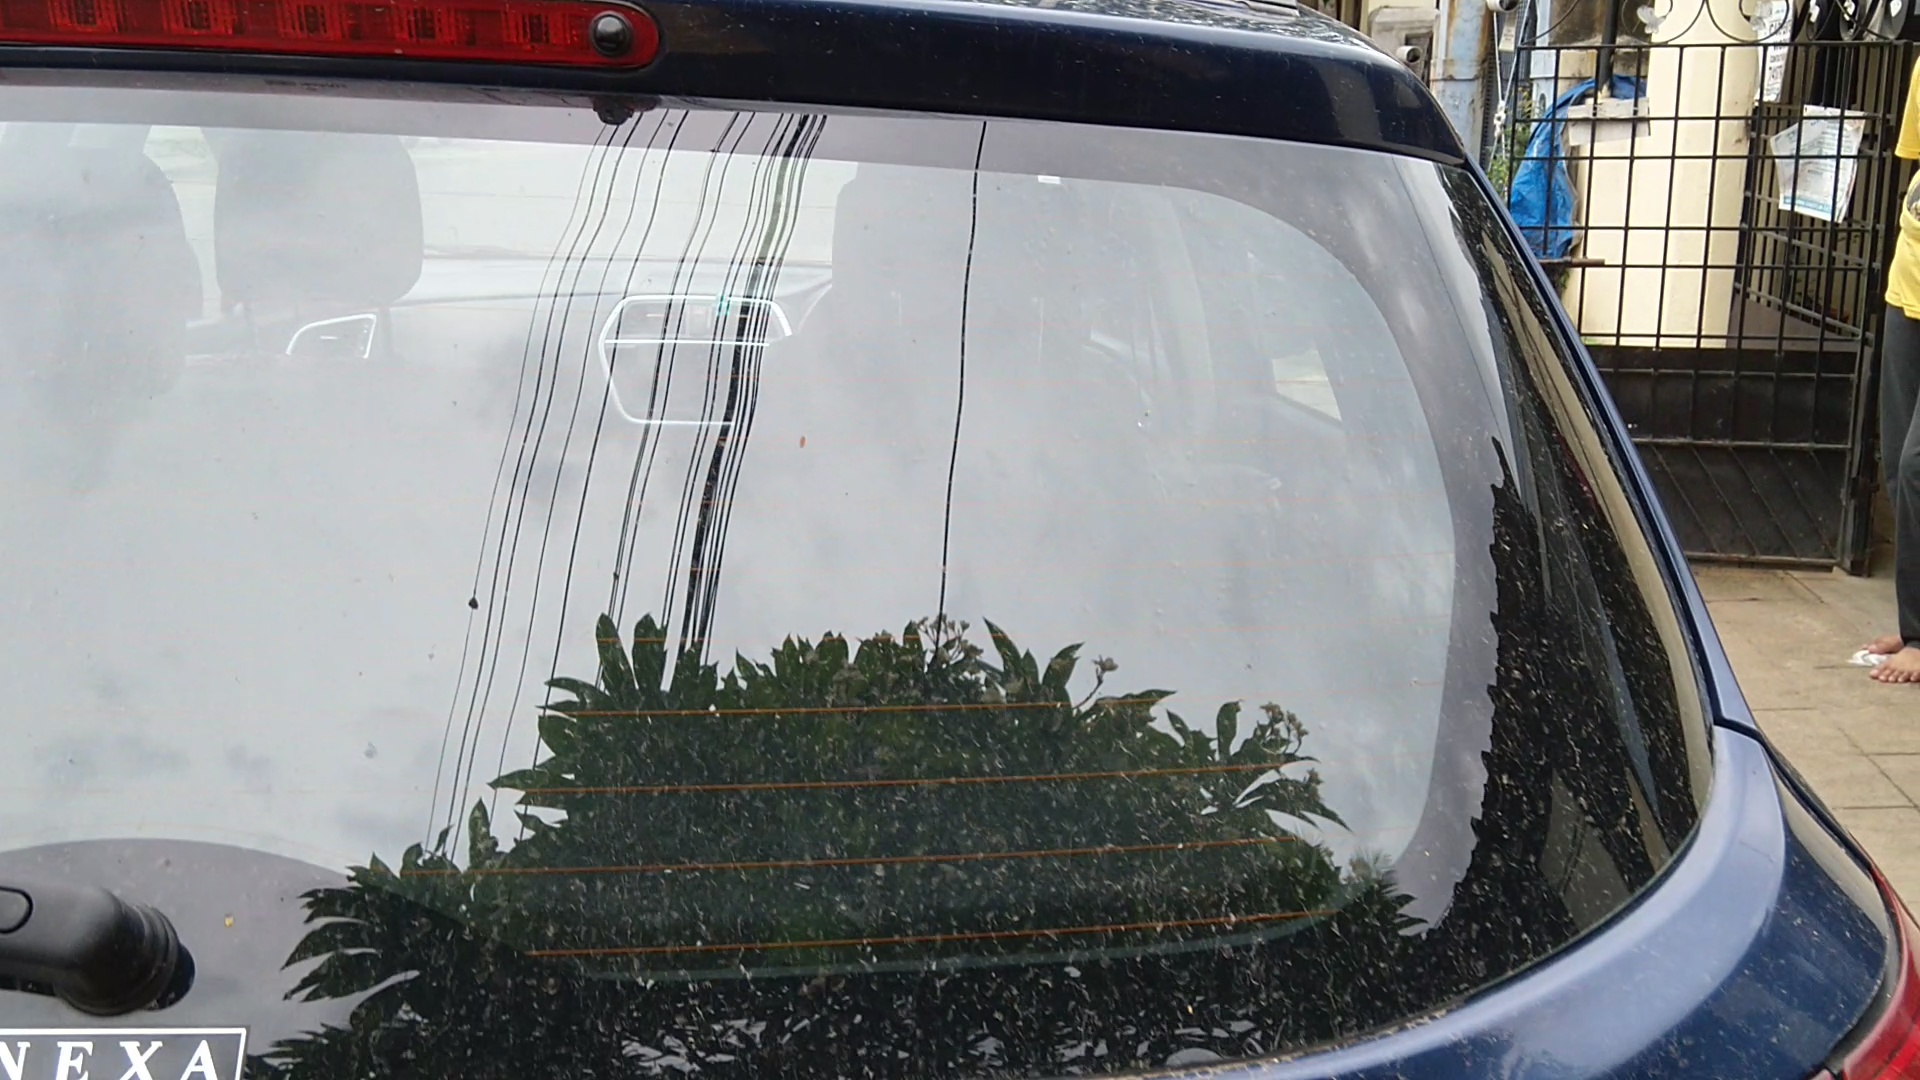rear_camera: (576, 1, 658, 73)
